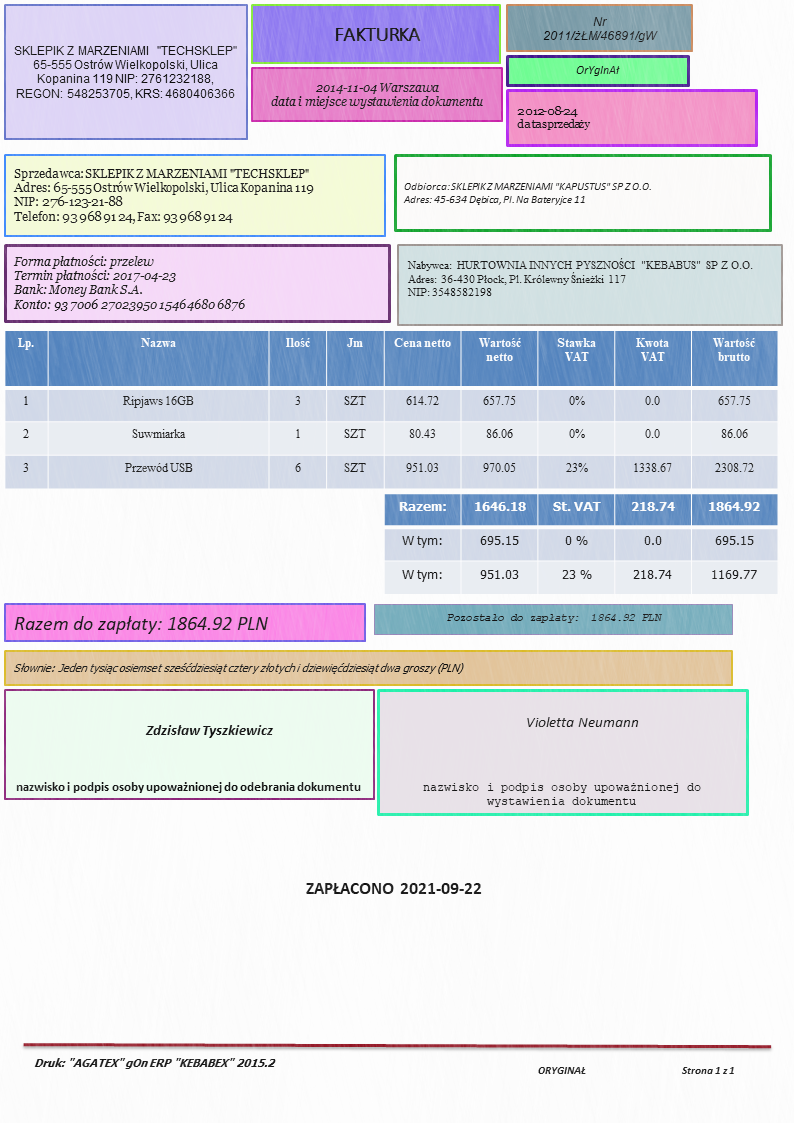Table: (2, 328, 778, 490), (382, 493, 778, 596)
TextBox: (10, 162, 317, 227), (403, 257, 754, 302), (10, 251, 249, 315), (10, 41, 238, 103), (419, 778, 707, 809), (10, 659, 466, 677), (400, 176, 651, 207), (268, 80, 486, 112), (9, 612, 270, 638), (11, 777, 364, 795), (30, 1052, 280, 1073), (539, 12, 661, 46), (302, 878, 486, 898), (532, 1061, 739, 1078), (441, 609, 664, 624), (143, 718, 275, 740), (512, 102, 592, 135), (522, 712, 639, 732), (332, 24, 424, 46), (573, 62, 623, 79)
